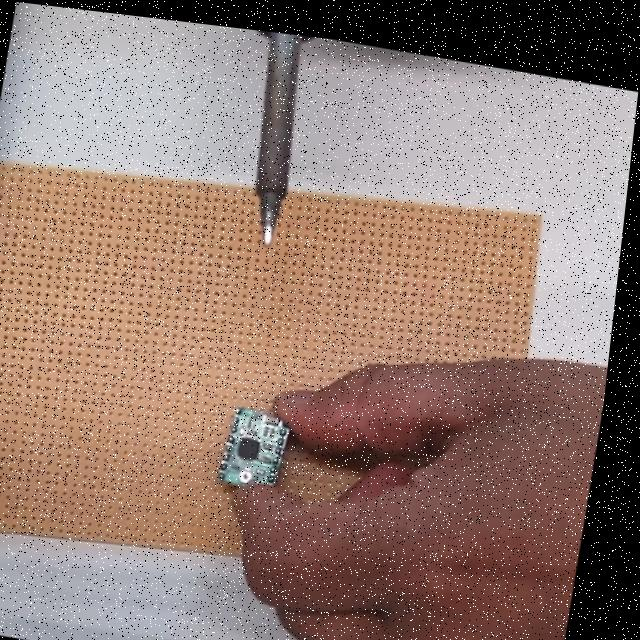Chip: (217, 403, 297, 499)
soldering_iron: (220, 29, 329, 253)
